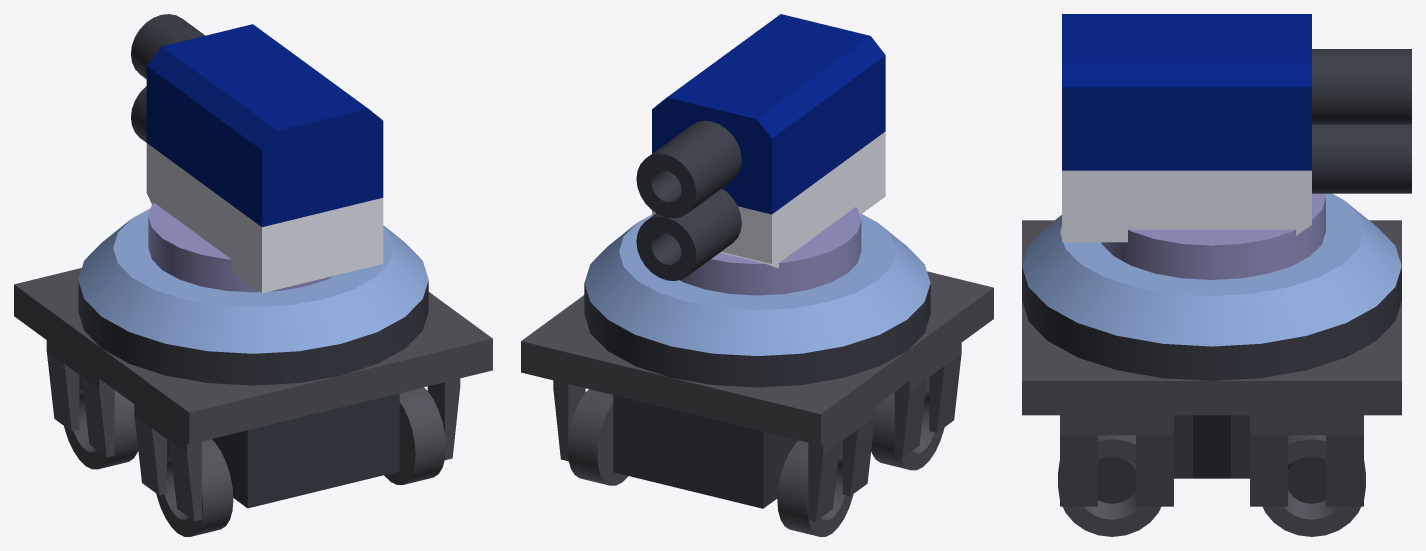
Rendered from blaster-large.glb.
3 renders of one model, left to right at view 1: azimuth 30°, elevation 25°; view 2: azimuth 150°, elevation 25°; view 3: azimuth 270°, elevation 25°, orthographic. The views are drawn at different scales.
Visible parts, largest first — view 1: blaster_barrelDouble, bogie_clamp, tank_turretRing, wheel_small (×2); view 2: blaster_barrelDouble, bogie_clamp, tank_turretRing, wheel_small (×2); view 3: blaster_barrelDouble, tank_turretRing, bogie_clamp, wheel_small (×2).
Part boxes in pixels (x1,y1,x2,y2): blaster_barrelDouble: (131,14,383,293); bogie_clamp: (14,268,492,521); tank_turretRing: (78,203,428,385); wheel_small (×2): (64,375,445,536); blaster_barrelDouble: (636,14,885,280); bogie_clamp: (521,271,993,521); tank_turretRing: (584,207,930,387); wheel_small (×2): (567,377,944,536); blaster_barrelDouble: (1062,14,1411,242); tank_turretRing: (1022,193,1401,380); bogie_clamp: (1022,220,1401,506); wheel_small (×2): (1058,435,1365,536).
Size of the model in its own units: 0.38 by 0.48 by 0.39.
